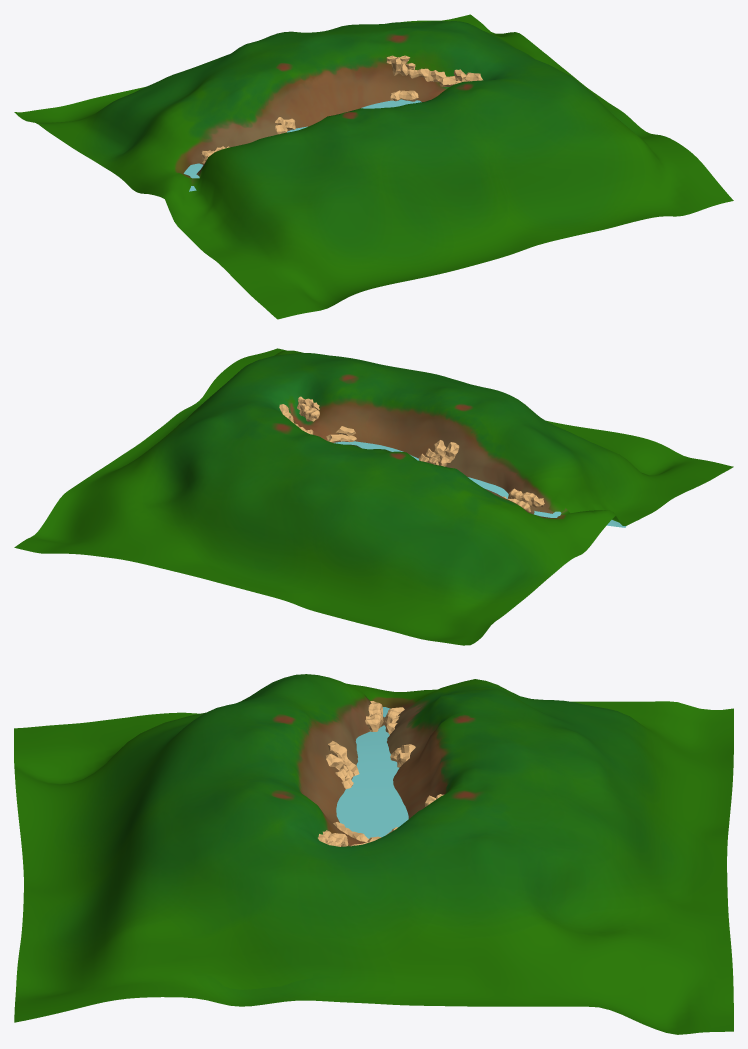
File: Terrain.gltf
3 views of the same model, one above another, from view 1: azimuth 30°, elevation 25°; view 2: azimuth 150°, elevation 25°; view 3: azimuth 270°, elevation 25° (orthographic). The views are drawn at different scales.
Parts seen in each view (by area): view 1: Plane; view 2: Plane; view 3: Plane.
Part boxes in pixels (x1,y1,x2,y2): Plane: (14, 14, 733, 319); Plane: (14, 348, 733, 645); Plane: (14, 674, 733, 1034).
Bounding box in the file's own units: 200 × 43.51 × 200.
Materials: 3 (2 with a texture image).
